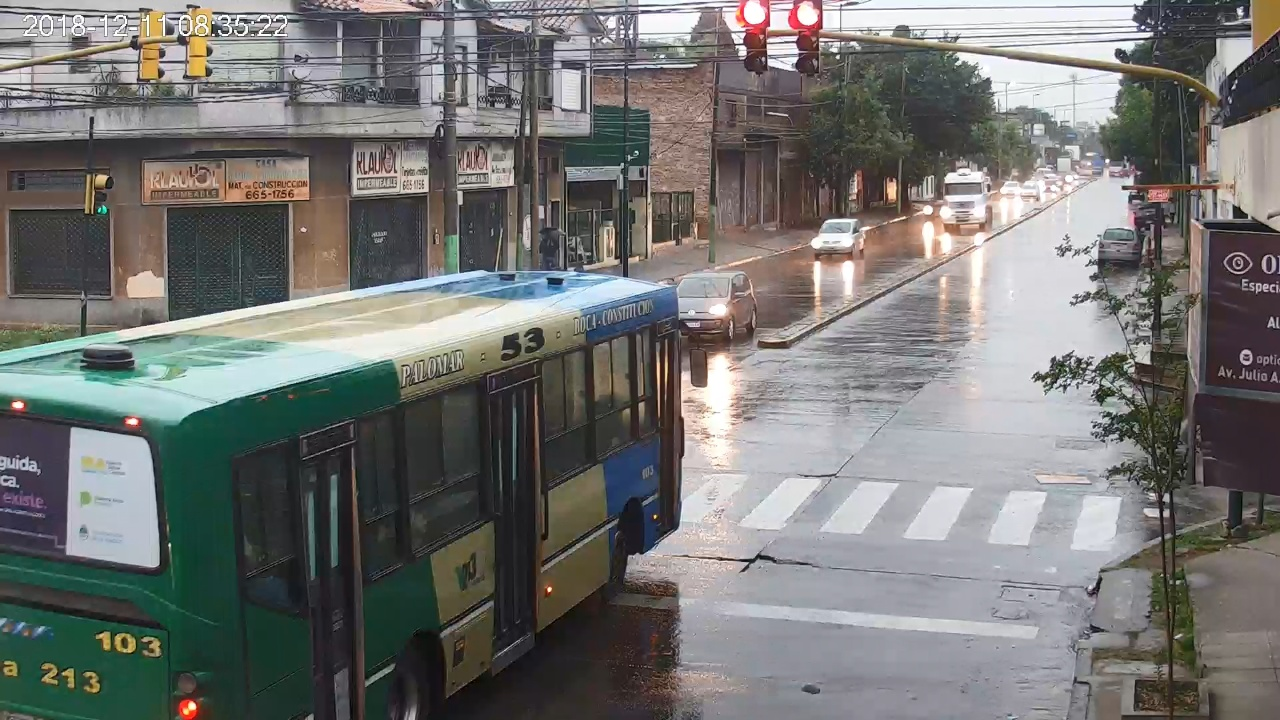bus: (3, 269, 706, 720)
traffic light: (797, 1, 821, 73), (743, 1, 768, 70)
